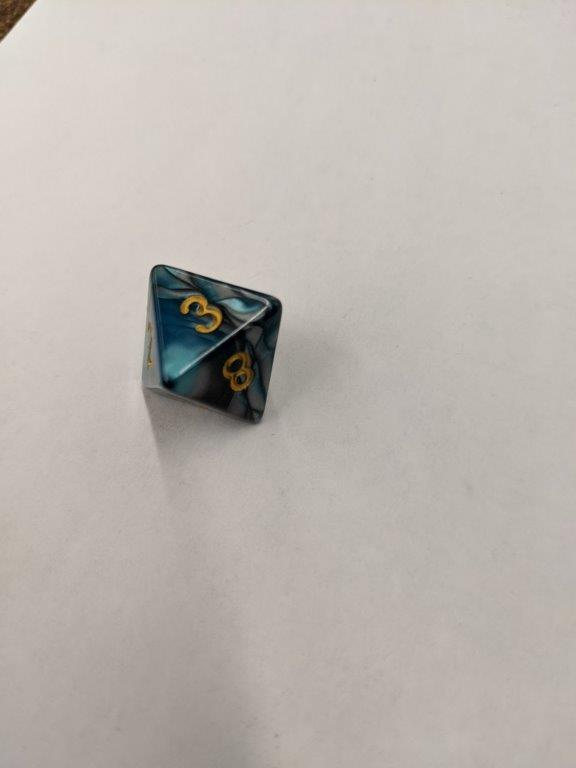d8-3: (136, 263, 285, 426)
